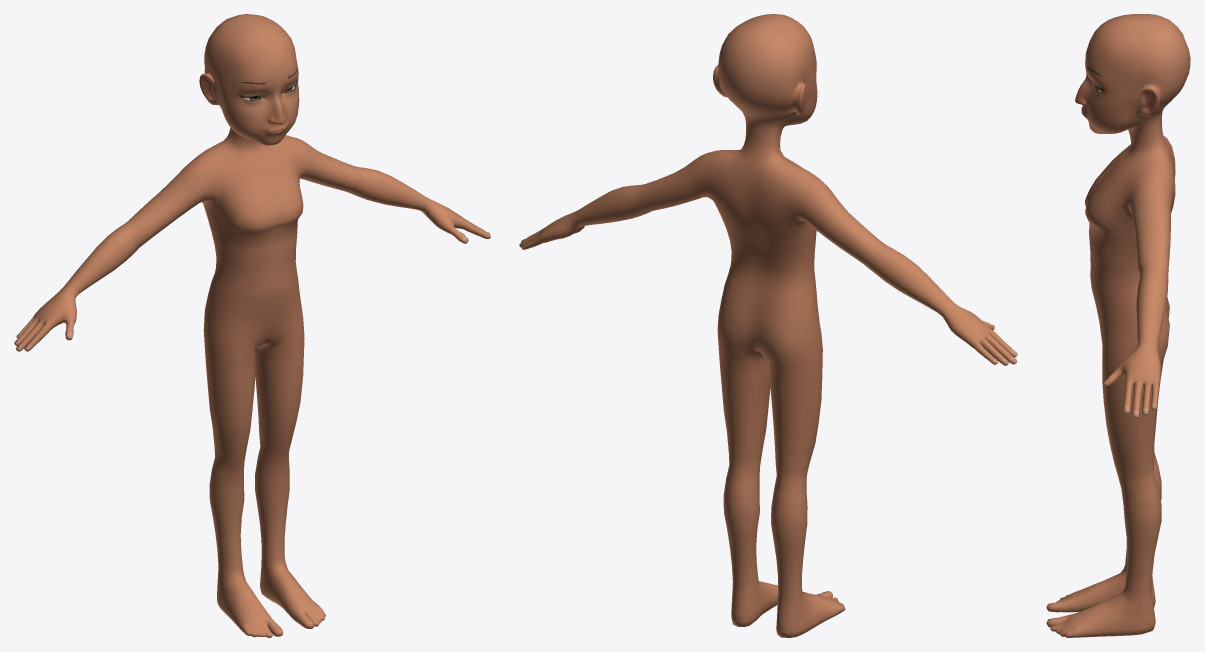
Rendered from frame_0071.glb.
3 renders of one model, left to right at view 1: azimuth 30°, elevation 25°; view 2: azimuth 150°, elevation 25°; view 3: azimuth 270°, elevation 25°, orthographic. The views are drawn at different scales.
Parts seen in each view (by area): view 1: frame_0071_head_geo; view 2: frame_0071_head_geo; view 3: frame_0071_head_geo.
Part boxes in pixels (x1,y1,x2,y2): frame_0071_head_geo: [14, 14, 490, 637]; frame_0071_head_geo: [519, 14, 1017, 637]; frame_0071_head_geo: [1046, 14, 1190, 637].
Bounding box in the file's own units: 1.28 × 1.5 × 0.3253.
3 materials, 3 textured.
